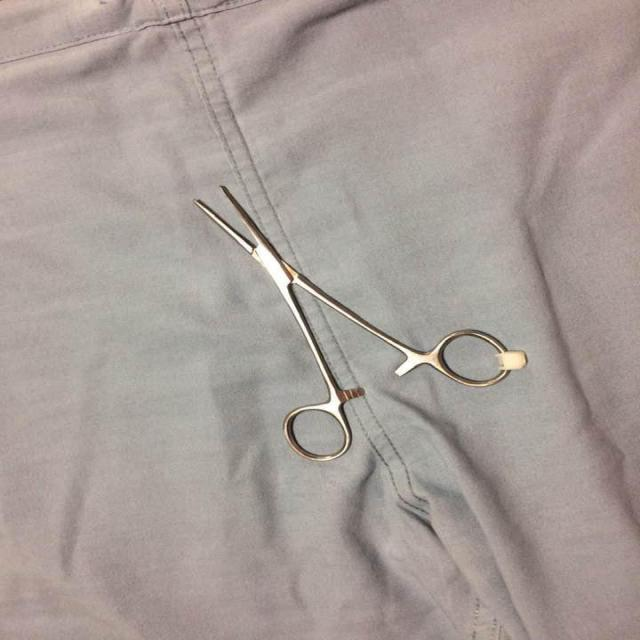Hemostat: (191, 181, 515, 467)
